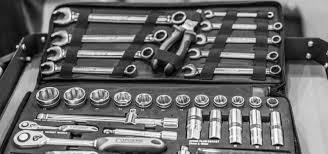wrench: (10, 128, 166, 153), (16, 119, 98, 133)
